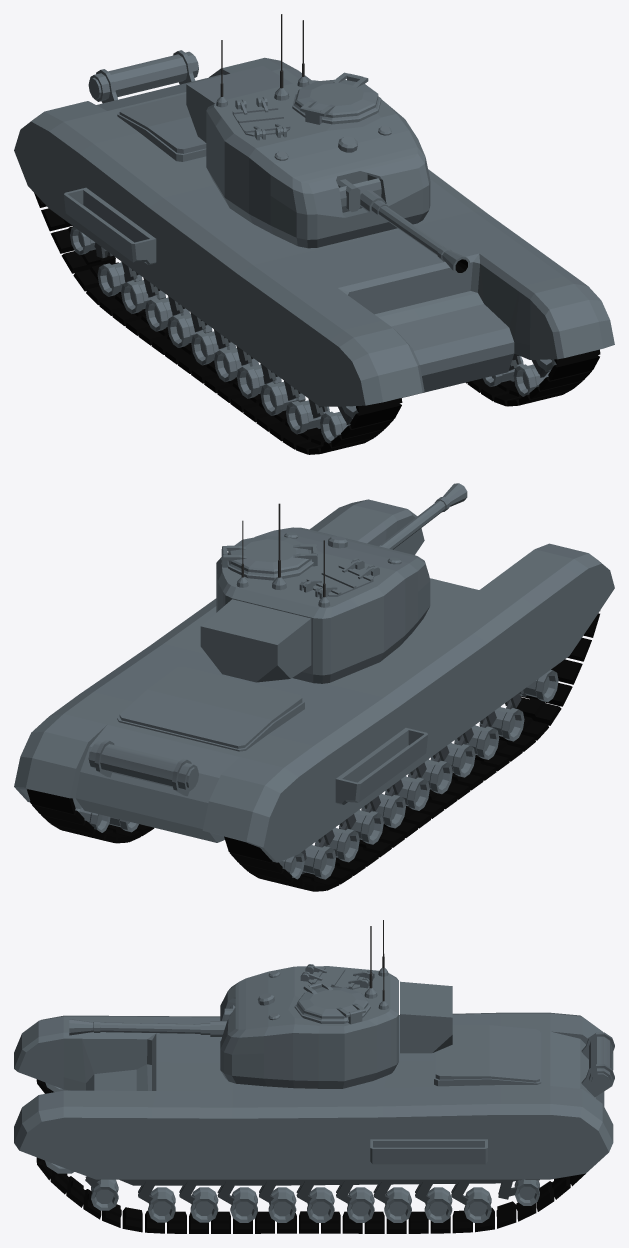
3 renders of one model, top to bottom at view 1: azimuth 30°, elevation 25°; view 2: azimuth 150°, elevation 25°; view 3: azimuth 270°, elevation 25°, orthographic. The views are drawn at different scales.
Parts seen in each view (by area): view 1: Plane, Plane.001, Cube, Cylinder, Plane.002, Plane.003; view 2: Plane, Plane.001, Cube, Plane.003, Cylinder, Plane.002; view 3: Plane, Cube, Plane.001, Cylinder, Plane.003, Plane.002.
Boxes of the visible parts, box(x1,y1,x2,y2) form: Plane: box(14, 50, 614, 406); Plane.001: box(186, 14, 430, 248); Cube: box(34, 193, 600, 454); Cylinder: box(337, 178, 469, 275); Plane.002: box(295, 92, 378, 117); Plane.003: box(295, 72, 376, 100); Plane: box(14, 499, 614, 862); Plane.001: box(200, 503, 430, 683); Cube: box(27, 610, 600, 891); Plane.003: box(222, 540, 297, 574); Cylinder: box(377, 483, 467, 549); Plane.002: box(243, 535, 317, 569); Plane: box(14, 1012, 614, 1179); Cube: box(36, 1079, 585, 1233); Plane.001: box(220, 920, 452, 1088); Cylinder: box(69, 1005, 235, 1036); Plane.003: box(322, 987, 368, 1018); Plane.002: box(297, 981, 342, 1018).
Bounding box in the file's own units: 363 × 360 × 758.
